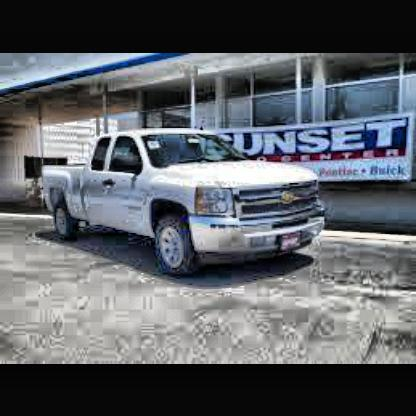Chevrolet Silverado 1500 Extended Cab 2012: (40, 126, 333, 281)
